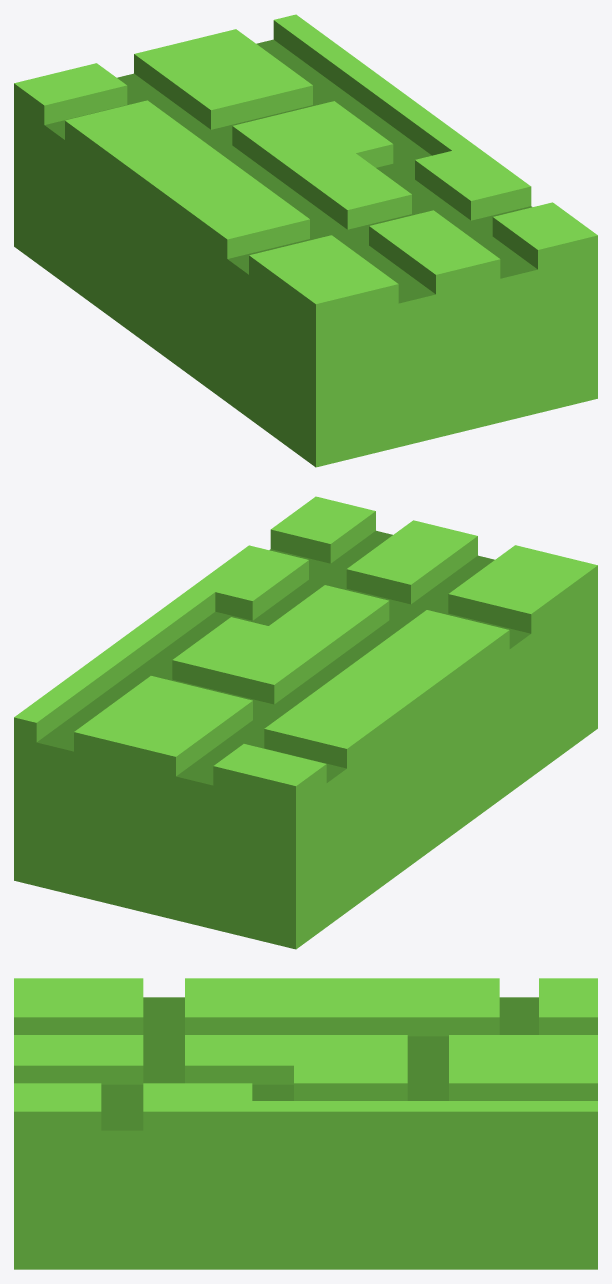
Rendered from iki çıkışlı.fbx.
3 renders of one model, top to bottom at view 1: azimuth 30°, elevation 25°; view 2: azimuth 150°, elevation 25°; view 3: azimuth 270°, elevation 25°, orthographic. The views are drawn at different scales.
Visible parts, largest first — view 1: Cube; view 2: Cube; view 3: Cube.
Part boxes in pixels (x1=…): Cube: x1=14, y1=14, x2=597, y2=467; Cube: x1=14, y1=496, x2=597, y2=949; Cube: x1=14, y1=978, x2=597, y2=1269.
Bounding box in the file's own units: 3016 × 1668 × 5590.
